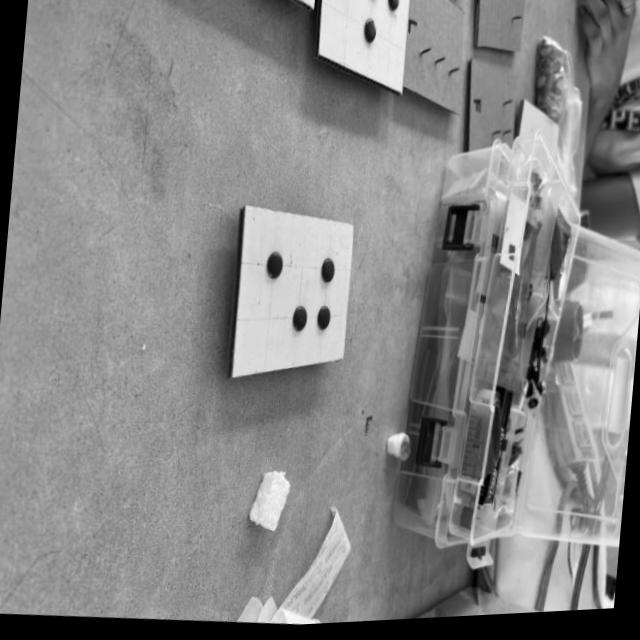braiile: (235, 214, 351, 376)
